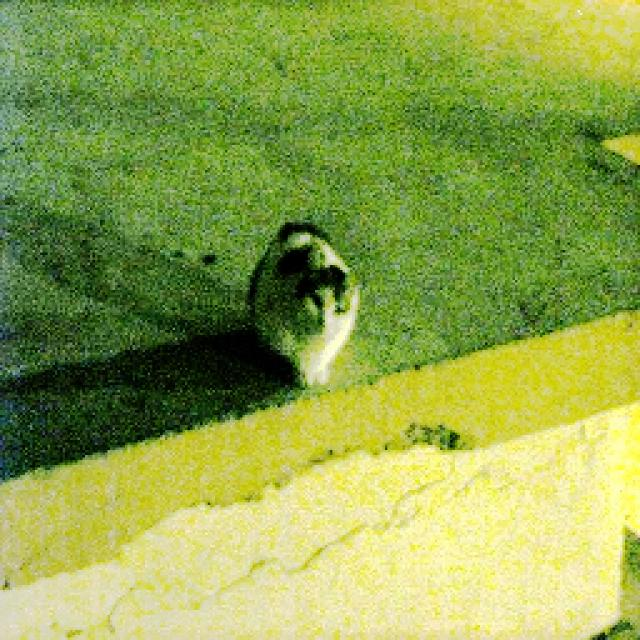cat: (217, 190, 372, 402)
